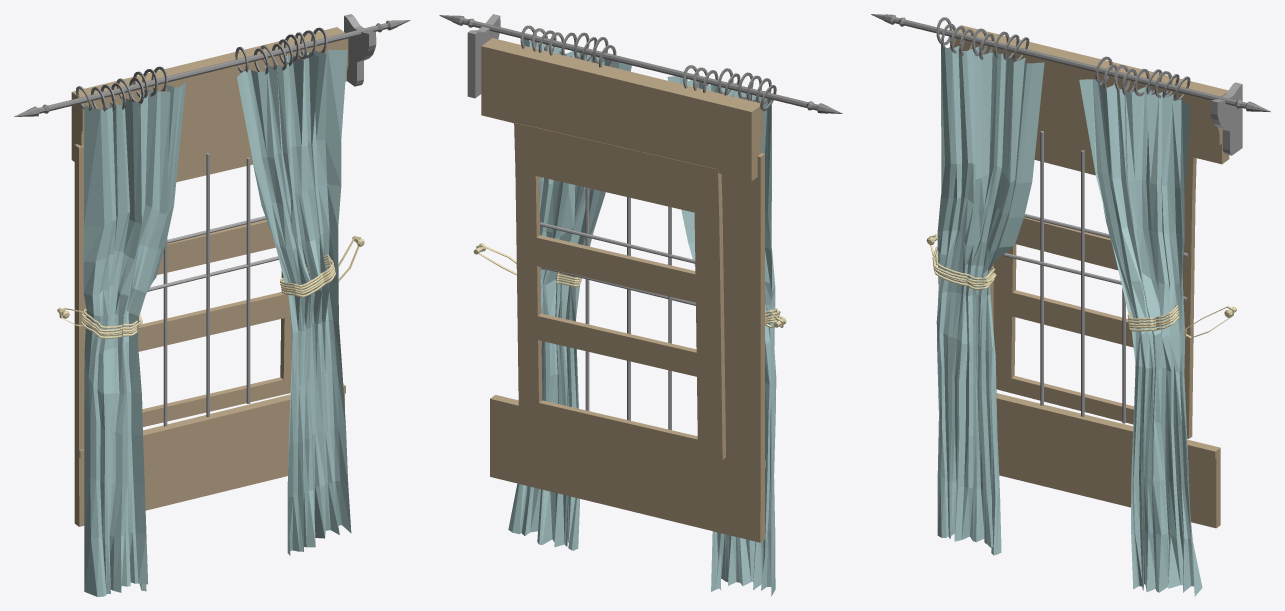
The model's file is chuanghu.fbx.
3 views of the same model, side by side, from view 1: azimuth 30°, elevation 25°; view 2: azimuth 150°, elevation 25°; view 3: azimuth 330°, elevation 25° (orthographic).
Visible parts, largest first — view 1: pCylinder230; view 2: pCylinder230; view 3: pCylinder230.
Part boxes in pixels (x1,y1,x2,y2): pCylinder230: (14,14,410,596); pCylinder230: (439,14,842,596); pCylinder230: (871,14,1270,596).
Size of the model in its own units: 10.4 by 12.9 by 1.49.
